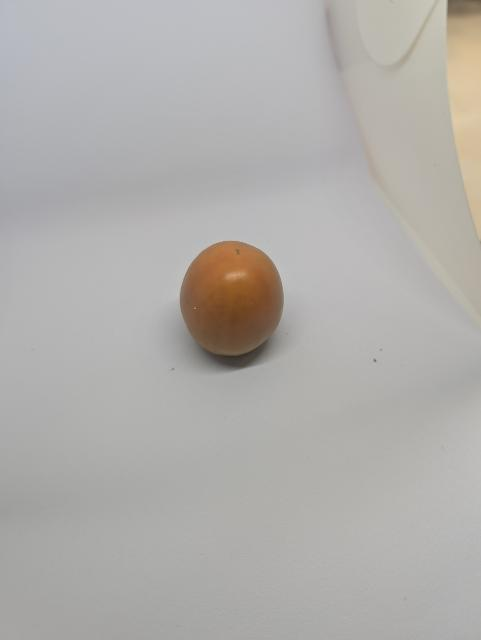turning: (173, 229, 294, 375)
